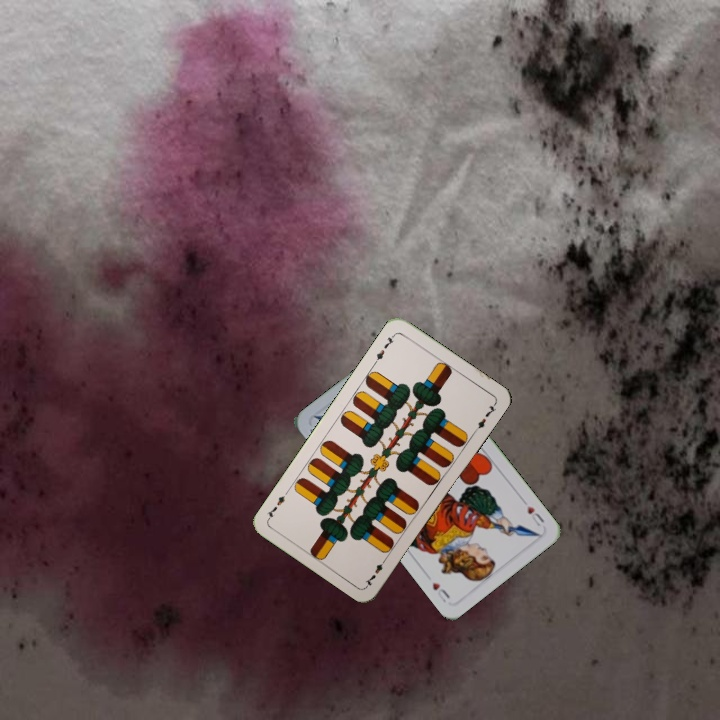E7: (361, 553, 390, 589), (370, 330, 398, 366)
HU: (523, 501, 547, 529)
